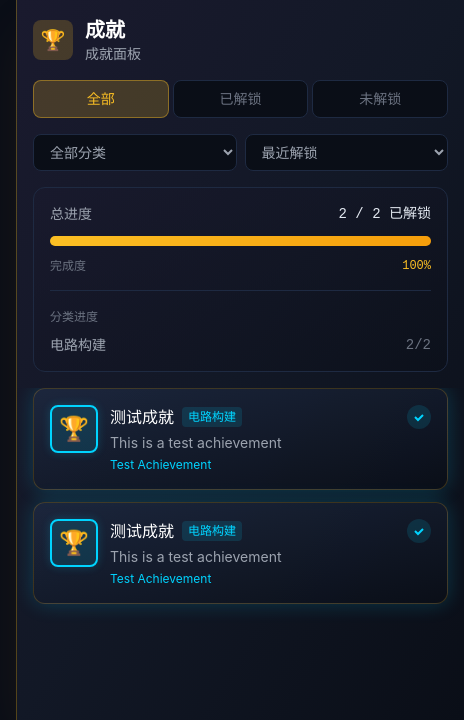
AchievementPanel Component › Empty States › displays empty state when no locked achievements exist
Click the button with test id "achievement-tab-locked" at (380, 99), box [312, 80, 448, 118]
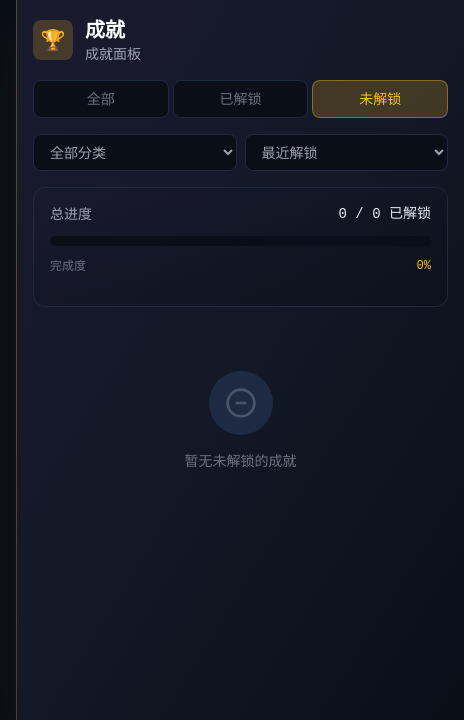
Expected: the element with test id "achievement-empty-state" is shown, [184, 371, 296, 469]
Expected: the text "暂无未解锁的成就" is shown, [184, 451, 296, 471]
